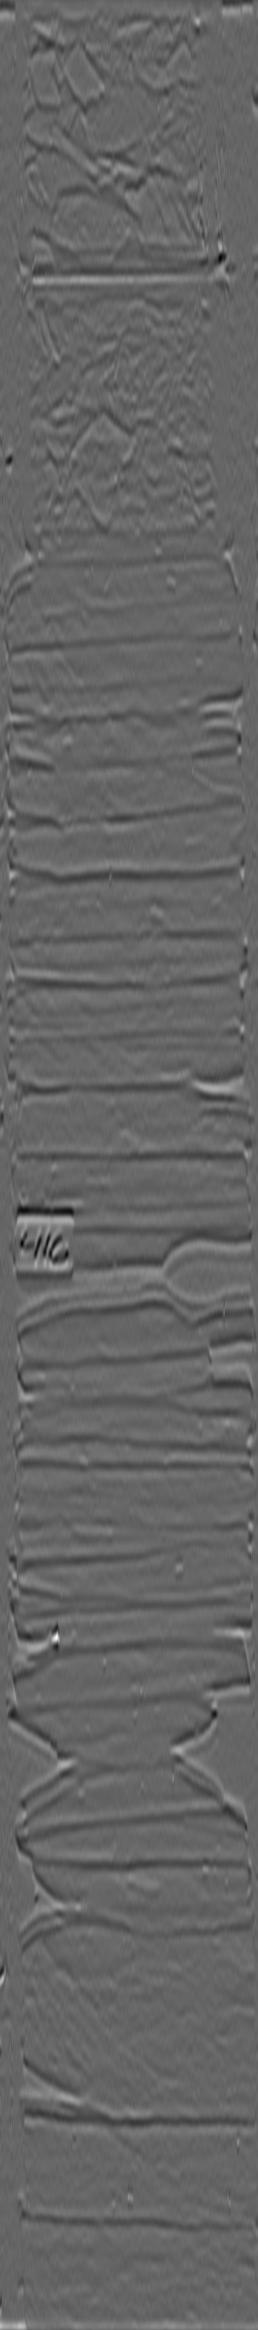hplug: (144, 1235, 231, 1330)
